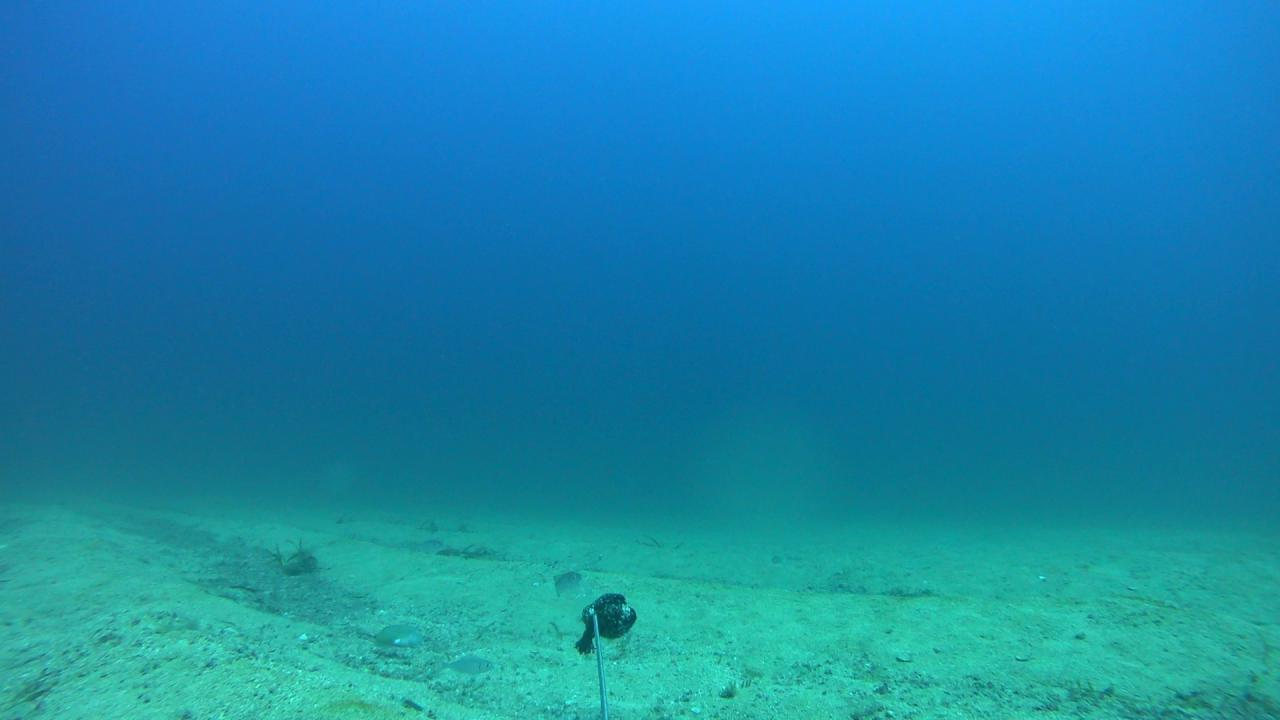pagellus: (434, 654, 491, 674), (554, 568, 584, 596), (408, 536, 448, 556)
raor: (365, 619, 428, 649)
